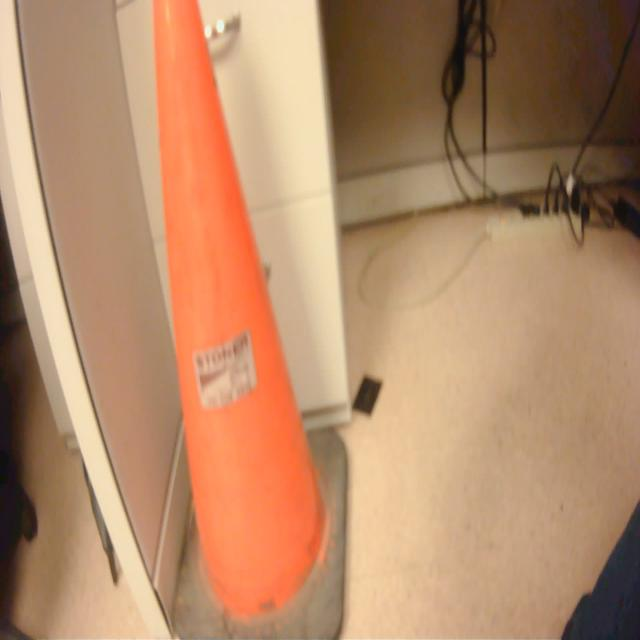traffic cone: (150, 1, 364, 640)
